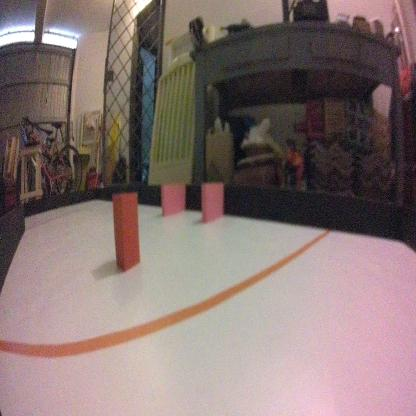magenta: (199, 182, 229, 221), (161, 180, 186, 221)
red: (110, 189, 142, 278)
